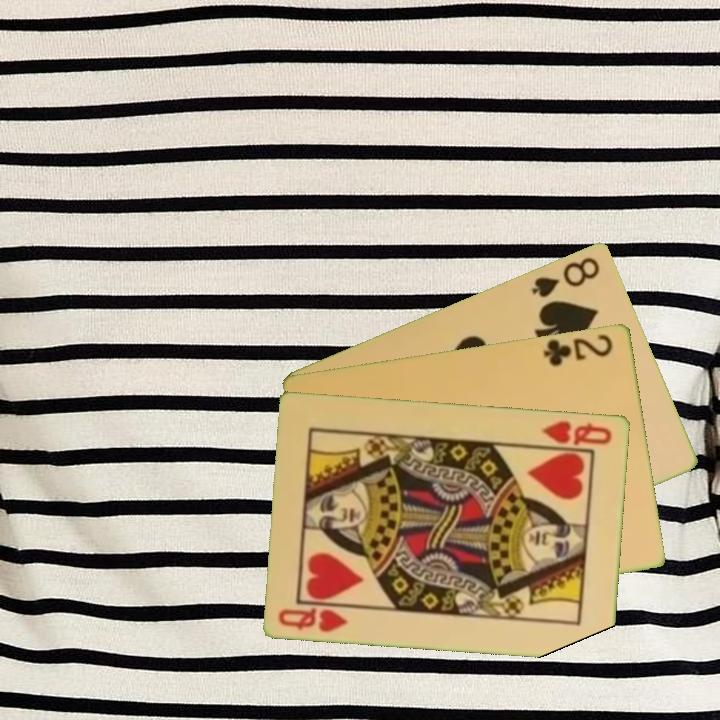2c: (540, 330, 616, 369)
8s: (528, 253, 603, 300)
Qh: (539, 416, 615, 448), (275, 604, 351, 635)
